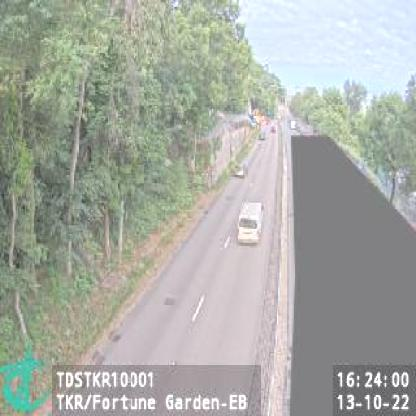Car: (236, 202, 266, 246)
